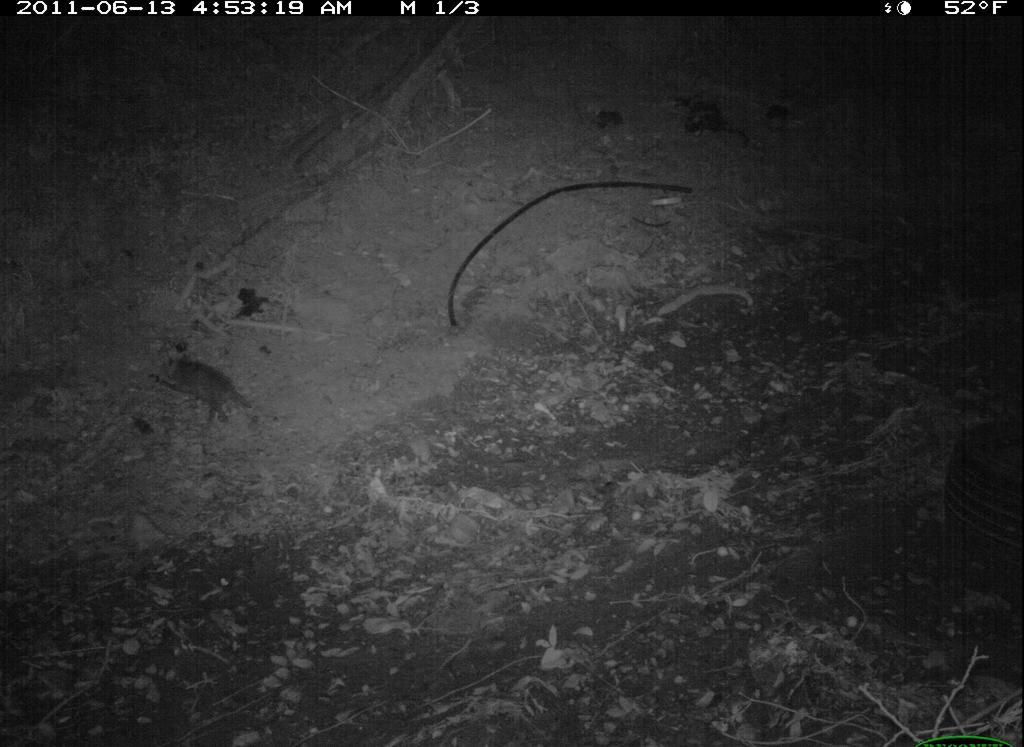opossum: (149, 319, 267, 456)
